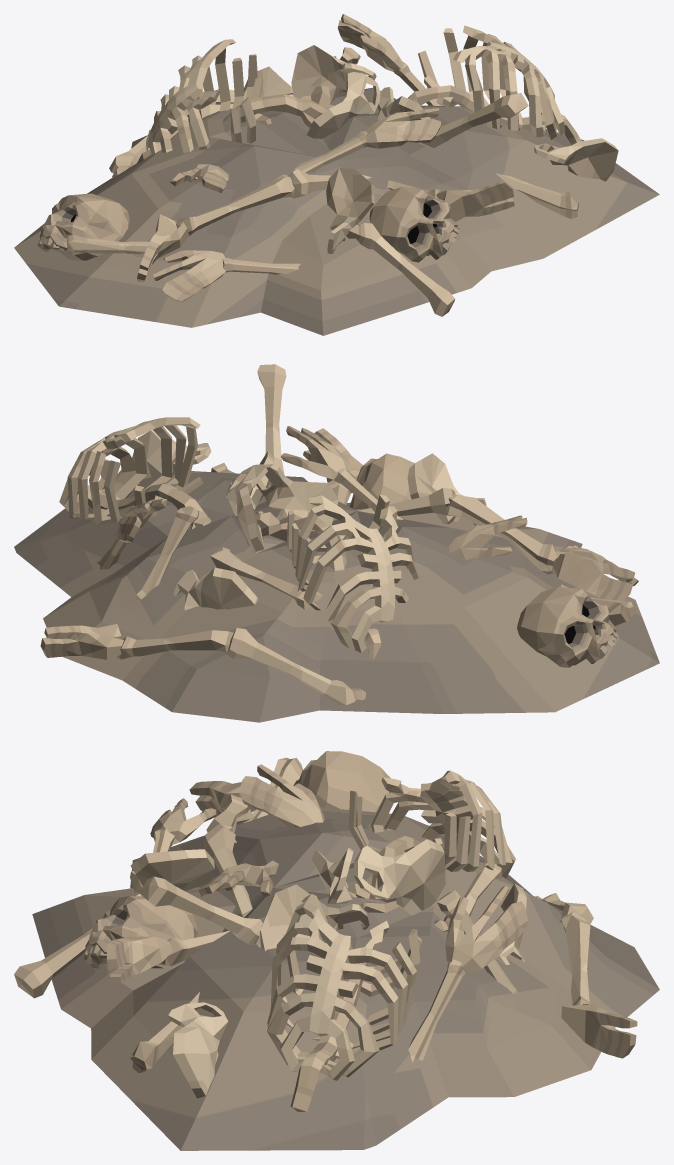
Rendered from SM_Prop_Bone_Pile_01.fbx.
The picture shows the model from 3 angles, top to bottom: view 1: azimuth 30°, elevation 25°; view 2: azimuth 150°, elevation 25°; view 3: azimuth 270°, elevation 25°; orthographic projection. The views are drawn at different scales.
Visible parts, largest first — view 1: SM_Prop_Bone_Pile_01; view 2: SM_Prop_Bone_Pile_01; view 3: SM_Prop_Bone_Pile_01.
Part boxes in pixels (x1,y1,x2,y2): SM_Prop_Bone_Pile_01: (14,14,659,335); SM_Prop_Bone_Pile_01: (14,364,659,722); SM_Prop_Bone_Pile_01: (14,751,659,1150).
Size of the model in its own units: 188 by 51.06 by 153.
